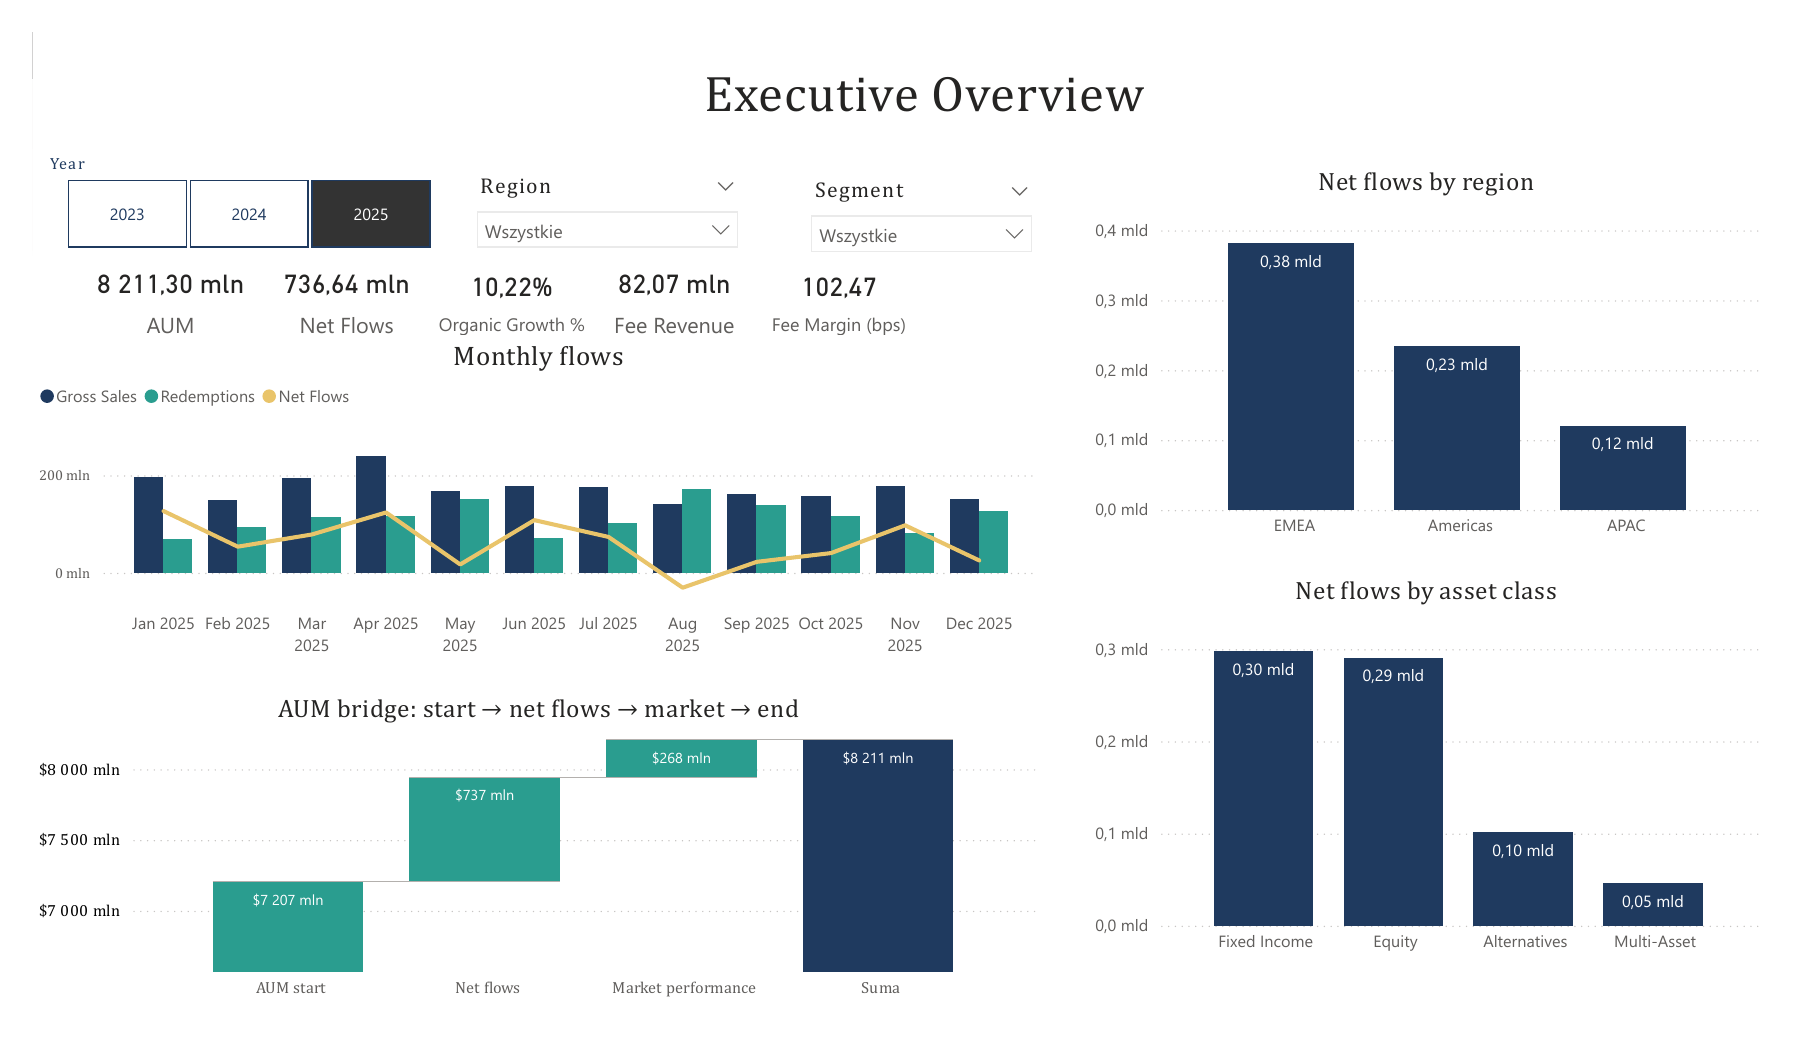

This screenshot's page, from the dashboard's own definition file:
{"tool":"powerbi","page":{"name":"Executive Overview","canvas":[1280,720],"ordinal":0},"visuals":[{"type":"slicer","fields":{"Values":["Dim_Date.year"]},"box":[0,86.2,317.5,80],"z":0},{"type":"slicer","fields":{"Values":["Dim_Advisors.region"]},"box":[317.5,101.2,213.8,62.5],"z":1000},{"type":"slicer","fields":{"Values":["Dim_Advisors.segment"]},"box":[565,103.8,182.5,62.5],"z":2000},{"type":"card","fields":{"Values":["_Measures.AUM"]},"box":[41.8,166.4,120,61.8],"z":3000},{"type":"card","fields":{"Values":["_Measures.Net Flows"]},"box":[171.8,166.4,120,61.8],"z":4000},{"type":"card","fields":{"Values":["_Measures.Fee Revenue"]},"box":[413.6,166.4,120,61.8],"z":5000},{"type":"card","fields":{"Values":["_Measures.Fee Margin (bps)"]},"box":[531.8,166.4,127.3,61.8],"z":6000},{"type":"card","fields":{"Values":["_Measures.Organic Growth %"]},"box":[293.6,166.4,120,61.8],"z":7000},{"type":"lineClusteredColumnComboChart","title":"Monthly flows","fields":{"Category":["Dim_Date.Month"],"Y":["_Measures.Gross Sales","_Measures.Redemptions"],"Y2":["_Measures.Net Flows"]},"box":[0,228.8,747.5,238.8],"z":8000},{"type":"clusteredColumnChart","title":"Net flows by region","fields":{"Y":["_Measures.Net Flows"],"Category":["Dim_Clients.region"]},"box":[778.6,101.4,501.4,281.4],"z":9000},{"type":"clusteredColumnChart","title":"Net flows by asset class","fields":{"Y":["_Measures.Net Flows"],"Category":["Dim_Funds.asset_class"]},"box":[778.6,402.9,501.4,287.1],"z":10000},{"type":"waterfallChart","title":"AUM bridge: start → net flows → market → end","fields":{"Category":["Bridge.Step"],"Y":["_Measures.Bridge Value"]},"box":[0,490,747.5,230],"z":11000},{"type":"textbox","box":[187.5,21.2,942.5,80],"z":12000}]}

Visuals, with their boxes in screenshot pixels (x1, y1, x2, y2), scaled from the page's 1280x720 canvas onto the 1799x1040 screenshot:
slicer - Dim_Date.year: [x1=0, y1=125, x2=446, y2=240]
slicer - Dim_Advisors.region: [x1=446, y1=146, x2=747, y2=236]
slicer - Dim_Advisors.segment: [x1=794, y1=150, x2=1051, y2=240]
card - _Measures.AUM: [x1=59, y1=240, x2=227, y2=330]
card - _Measures.Net Flows: [x1=241, y1=240, x2=410, y2=330]
card - _Measures.Fee Revenue: [x1=581, y1=240, x2=750, y2=330]
card - _Measures.Fee Margin (bps): [x1=747, y1=240, x2=926, y2=330]
card - _Measures.Organic Growth %: [x1=413, y1=240, x2=581, y2=330]
"Monthly flows" lineClusteredColumnComboChart: [x1=0, y1=330, x2=1051, y2=675]
"Net flows by region" clusteredColumnChart: [x1=1094, y1=146, x2=1798, y2=553]
"Net flows by asset class" clusteredColumnChart: [x1=1094, y1=582, x2=1798, y2=997]
"AUM bridge: start → net flows → market → end" waterfallChart: [x1=0, y1=708, x2=1051, y2=1039]
textbox: [x1=264, y1=31, x2=1588, y2=146]
